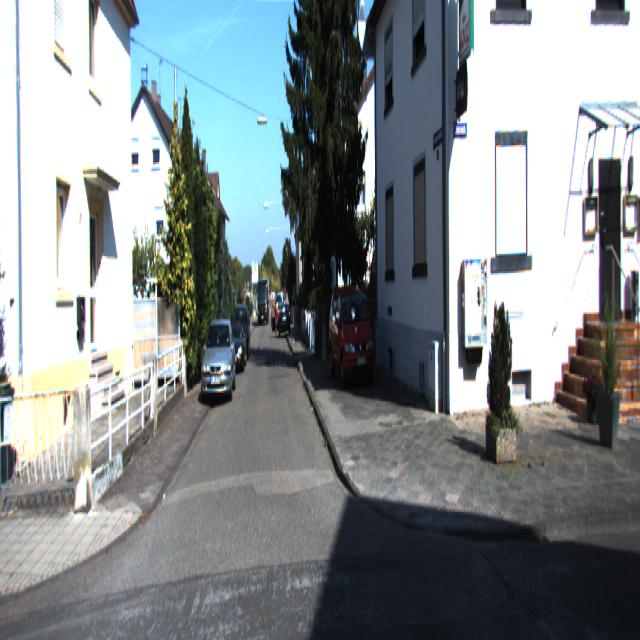Car: (327, 279, 374, 392), (200, 316, 234, 406), (223, 320, 246, 376)
